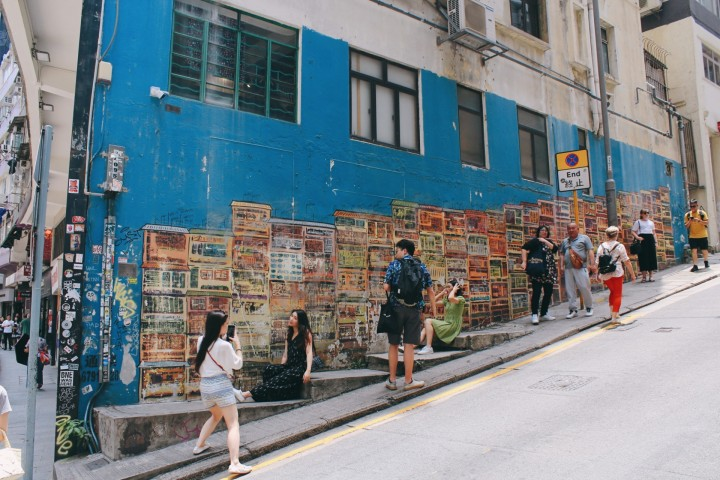people: (193, 310, 254, 474), (385, 238, 426, 394), (257, 312, 312, 402), (559, 219, 600, 321), (526, 225, 560, 328), (601, 226, 632, 324), (428, 278, 464, 346), (682, 201, 715, 273), (637, 209, 660, 282)
